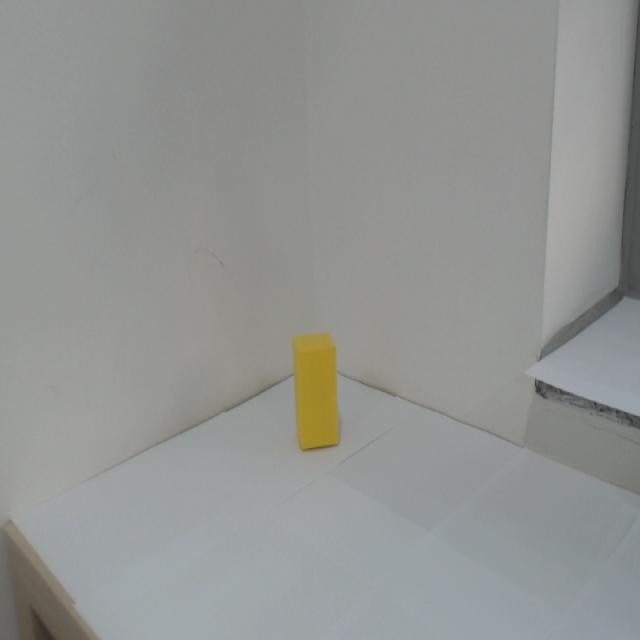cube: (285, 319, 357, 458)
